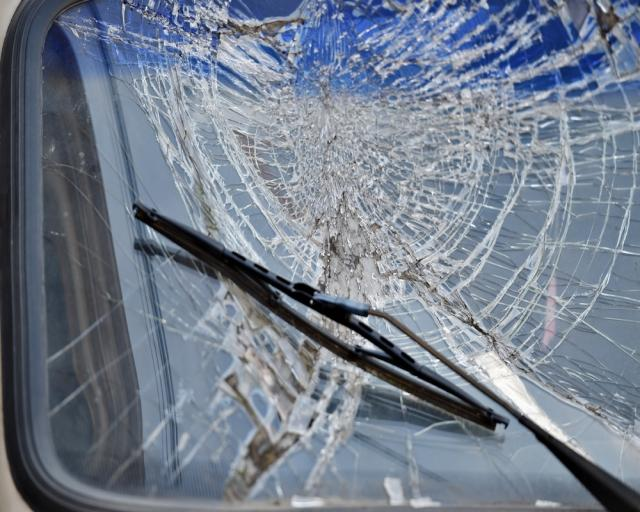glass shatter: (42, 0, 640, 512)
